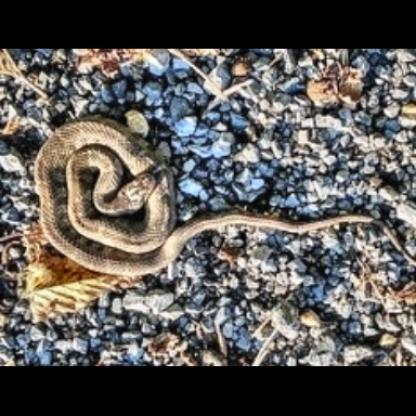Snake: (12, 52, 410, 320)
